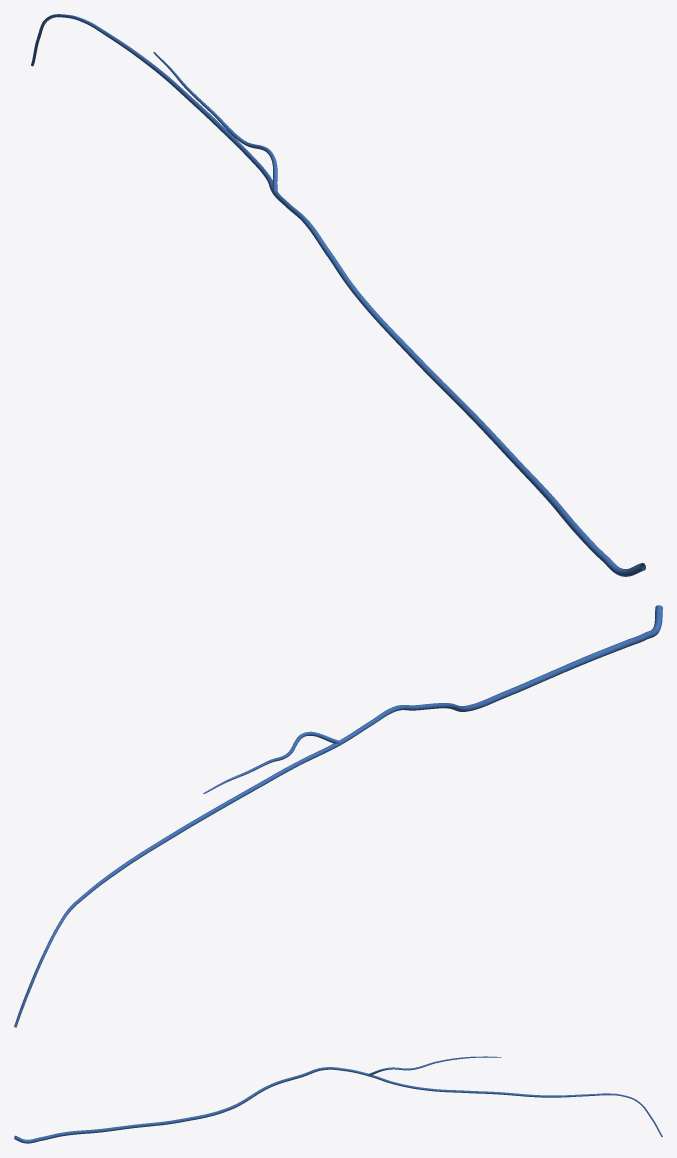
3 views of the same model, one above another, from view 1: azimuth 30°, elevation 25°; view 2: azimuth 150°, elevation 25°; view 3: azimuth 270°, elevation 25° (orthographic). The views are drawn at different scales.
Parts seen in each view (by area): view 1: 左侧大隐静脉; view 2: 左侧大隐静脉; view 3: 左侧大隐静脉.
Boxes of the visible parts, box(x1,y1,x2,y2) form: 左侧大隐静脉: box(31, 14, 645, 576); 左侧大隐静脉: box(14, 605, 662, 1027); 左侧大隐静脉: box(14, 1056, 662, 1143).
Bounding box in the file's own units: 0.0775 × 0.1756 × 1.17.
